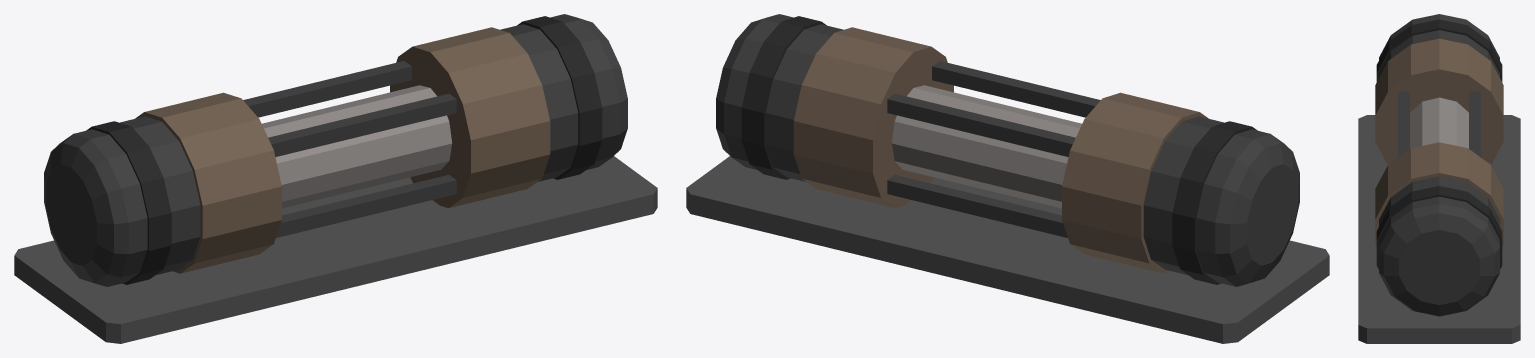
Rendered from vfef_booster.obj.
The picture shows the model from 3 angles, left to right: view 1: azimuth 30°, elevation 25°; view 2: azimuth 150°, elevation 25°; view 3: azimuth 270°, elevation 25°; orthographic projection. The views are drawn at different scales.
Visible parts, largest first — view 1: vfef_booster_0, vfef_booster_1, vfef_booster_6, vfef_booster_3, vfef_booster_7, vfef_booster_4, vfef_booster_2, vfef_booster_5, vfef_booster_9, vfef_booster_10, vfef_booster_8; view 2: vfef_booster_0, vfef_booster_1, vfef_booster_6, vfef_booster_3, vfef_booster_7, vfef_booster_4, vfef_booster_2, vfef_booster_5, vfef_booster_8, vfef_booster_11, vfef_booster_9; view 3: vfef_booster_0, vfef_booster_4, vfef_booster_3, vfef_booster_6, vfef_booster_7, vfef_booster_1, vfef_booster_5, vfef_booster_2, vfef_booster_8, vfef_booster_9.
Part boxes in pixels (bbox=[...]): vfef_booster_0: bbox=[14, 156, 657, 343]; vfef_booster_1: bbox=[44, 116, 200, 286]; vfef_booster_6: bbox=[390, 27, 550, 208]; vfef_booster_3: bbox=[135, 92, 281, 273]; vfef_booster_7: bbox=[262, 85, 452, 208]; vfef_booster_4: bbox=[500, 14, 627, 181]; vfef_booster_2: bbox=[86, 121, 171, 284]; vfef_booster_5: bbox=[517, 16, 602, 179]; vfef_booster_9: bbox=[268, 93, 456, 156]; vfef_booster_10: bbox=[276, 174, 456, 237]; vfef_booster_8: bbox=[243, 61, 411, 117]; vfef_booster_0: bbox=[686, 156, 1329, 343]; vfef_booster_1: bbox=[1143, 116, 1299, 286]; vfef_booster_6: bbox=[793, 27, 953, 208]; vfef_booster_3: bbox=[1062, 92, 1208, 273]; vfef_booster_7: bbox=[891, 85, 1081, 208]; vfef_booster_4: bbox=[716, 14, 843, 181]; vfef_booster_2: bbox=[1172, 121, 1257, 284]; vfef_booster_5: bbox=[741, 16, 826, 179]; vfef_booster_8: bbox=[887, 93, 1075, 156]; vfef_booster_11: bbox=[887, 174, 1067, 237]; vfef_booster_9: bbox=[932, 61, 1100, 117]; vfef_booster_0: bbox=[1358, 115, 1520, 343]; vfef_booster_4: bbox=[1379, 176, 1499, 316]; vfef_booster_3: bbox=[1375, 38, 1503, 164]; vfef_booster_6: bbox=[1375, 142, 1503, 247]; vfef_booster_7: bbox=[1410, 97, 1468, 148]; vfef_booster_1: bbox=[1379, 14, 1499, 77]; vfef_booster_5: bbox=[1376, 186, 1502, 269]; vfef_booster_2: bbox=[1376, 19, 1502, 81]; vfef_booster_8: bbox=[1469, 91, 1480, 157]; vfef_booster_9: bbox=[1398, 91, 1409, 157].
Bounding box in the file's own units: 2.92 × 0.84 × 0.94.
